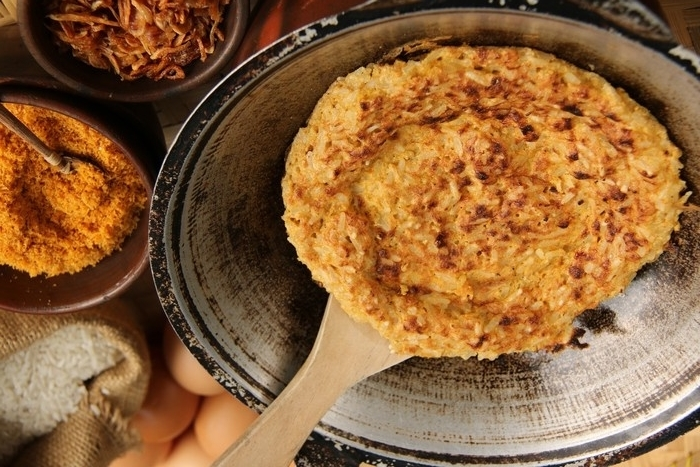kerak_telor: (280, 46, 691, 362)
